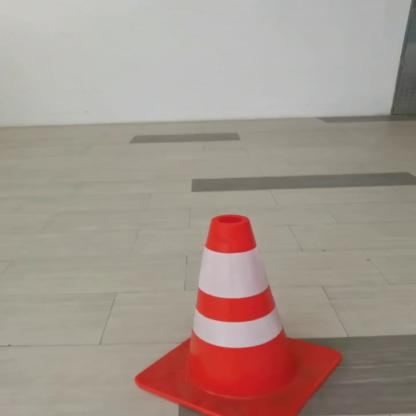cone: (126, 210, 345, 415)
